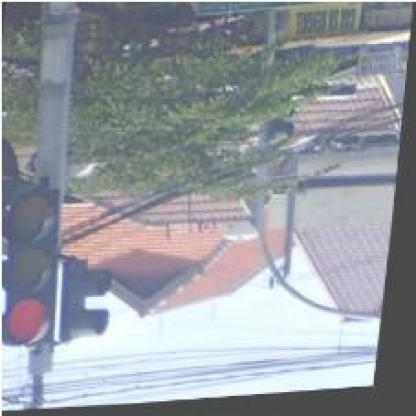red: (0, 190, 70, 349)
